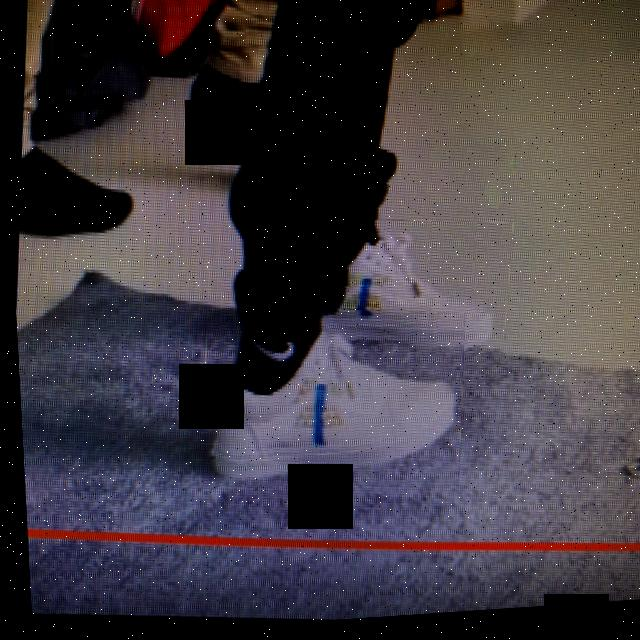shoe: (187, 296, 467, 512), (304, 212, 516, 384)
